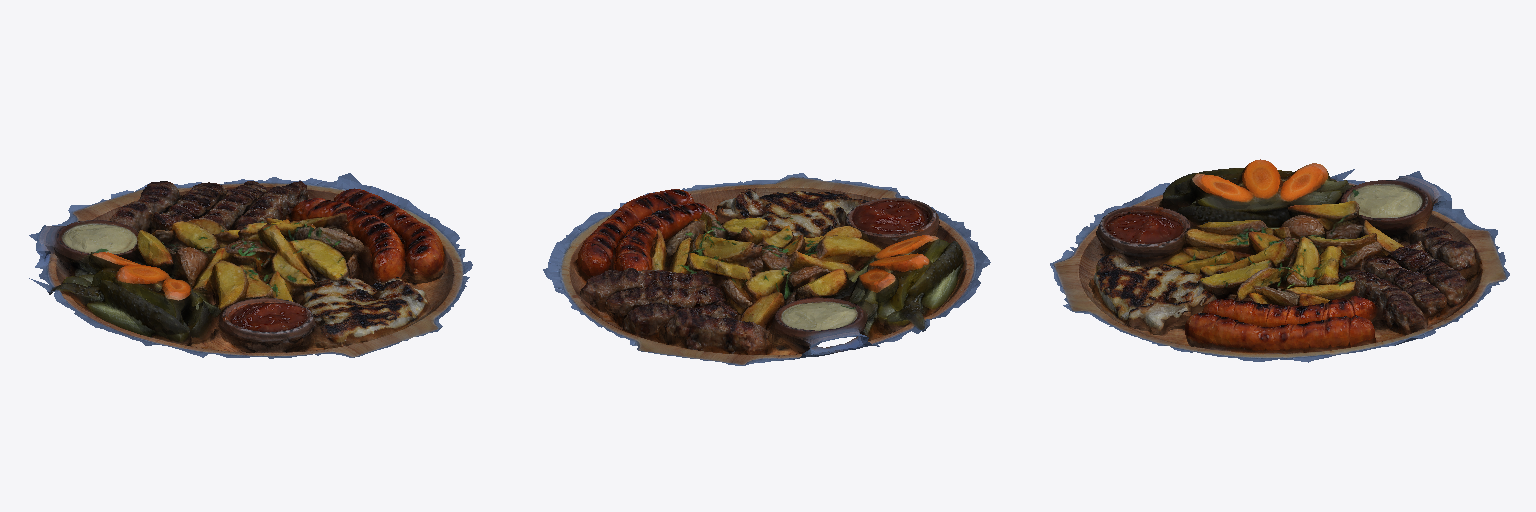
3 views of the same model, side by side, from view 1: azimuth 30°, elevation 25°; view 2: azimuth 150°, elevation 25°; view 3: azimuth 270°, elevation 25° (orthographic).
Parts seen in each view (by area): view 1: platou-catavencu; view 2: platou-catavencu; view 3: platou-catavencu.
Boxes of the visible parts, x1,y1,x2,y2 form: platou-catavencu: [29, 173, 472, 358]; platou-catavencu: [543, 173, 990, 365]; platou-catavencu: [1050, 159, 1509, 362].
Size of the model in its own units: 0.1653 by 0.023 by 0.1748.
1 materials, 1 textured.